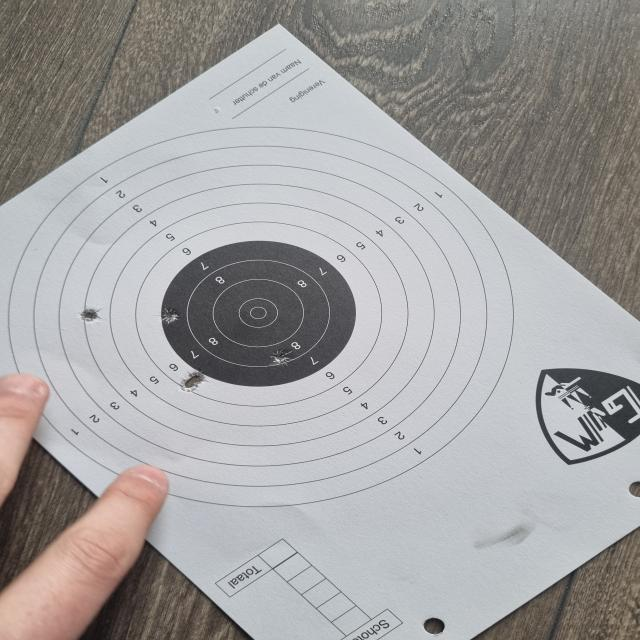4: (79, 308, 100, 322)
5: (179, 378, 196, 392)
7: (158, 308, 180, 324), (187, 369, 210, 384)
8: (268, 348, 292, 365)
Target: (9, 125, 515, 509)
black_contour: (163, 241, 356, 387)
